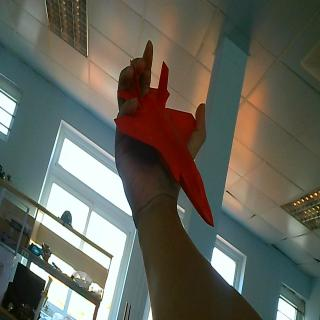Jet: (114, 59, 216, 230)
